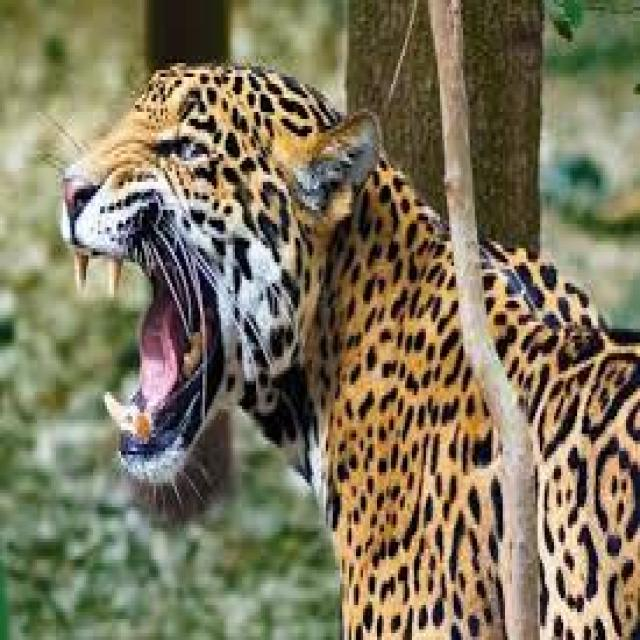Jaguar: (49, 31, 640, 640)
